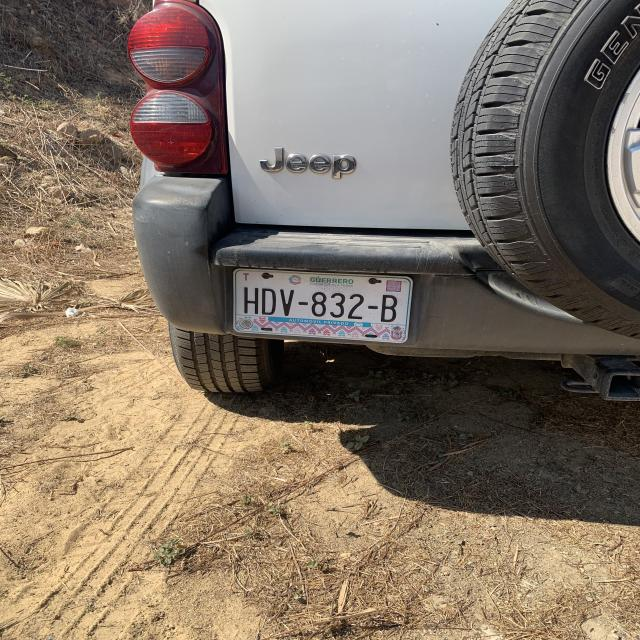placa: (238, 281, 411, 325)
